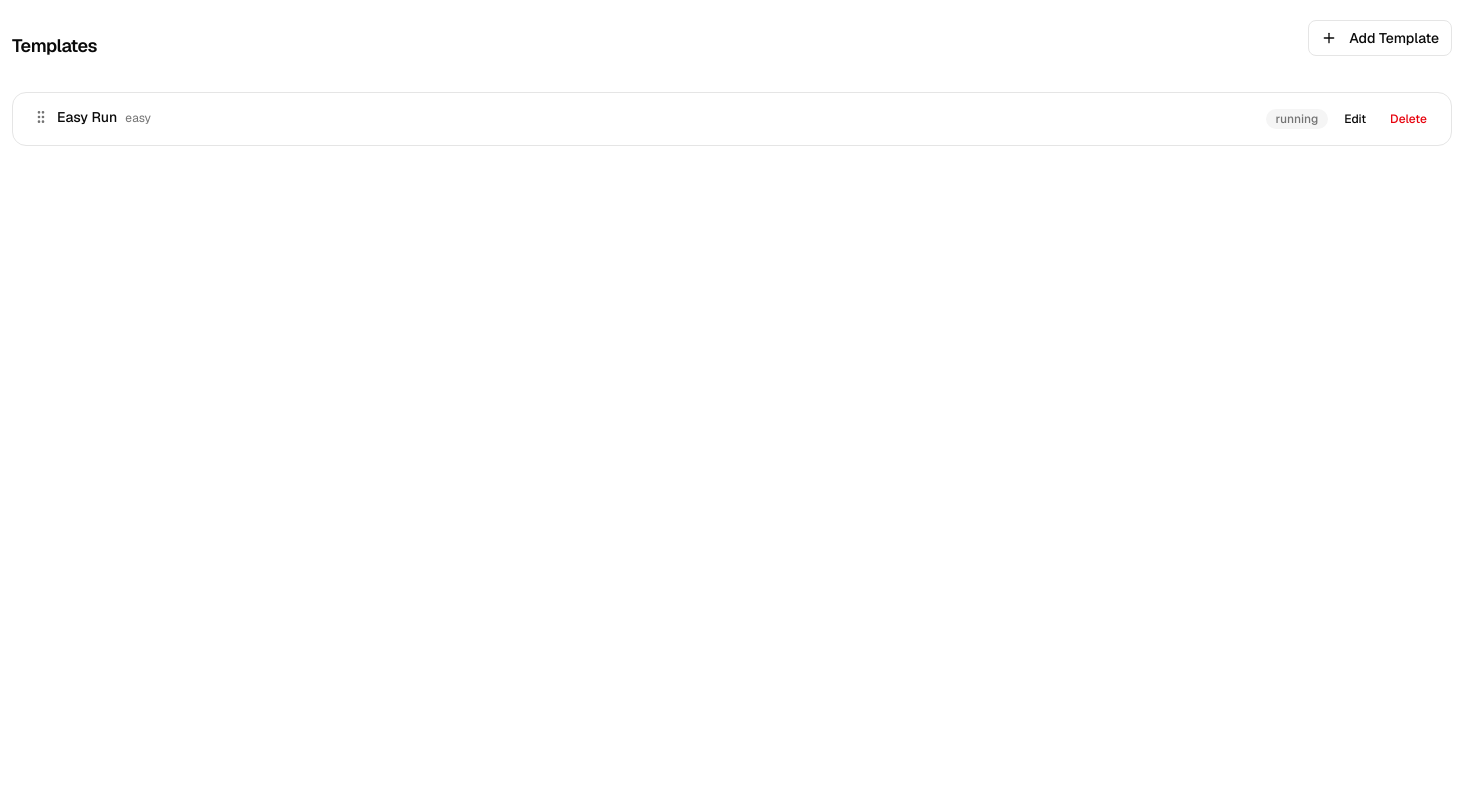
Test: TemplateSection — distance/duration inline edit (T129) › sanitizes negative sign from distance in inline edit (NumericInput prevents negative values)
Click the button "Edit": (1355, 119) [1336,105,1374,133]
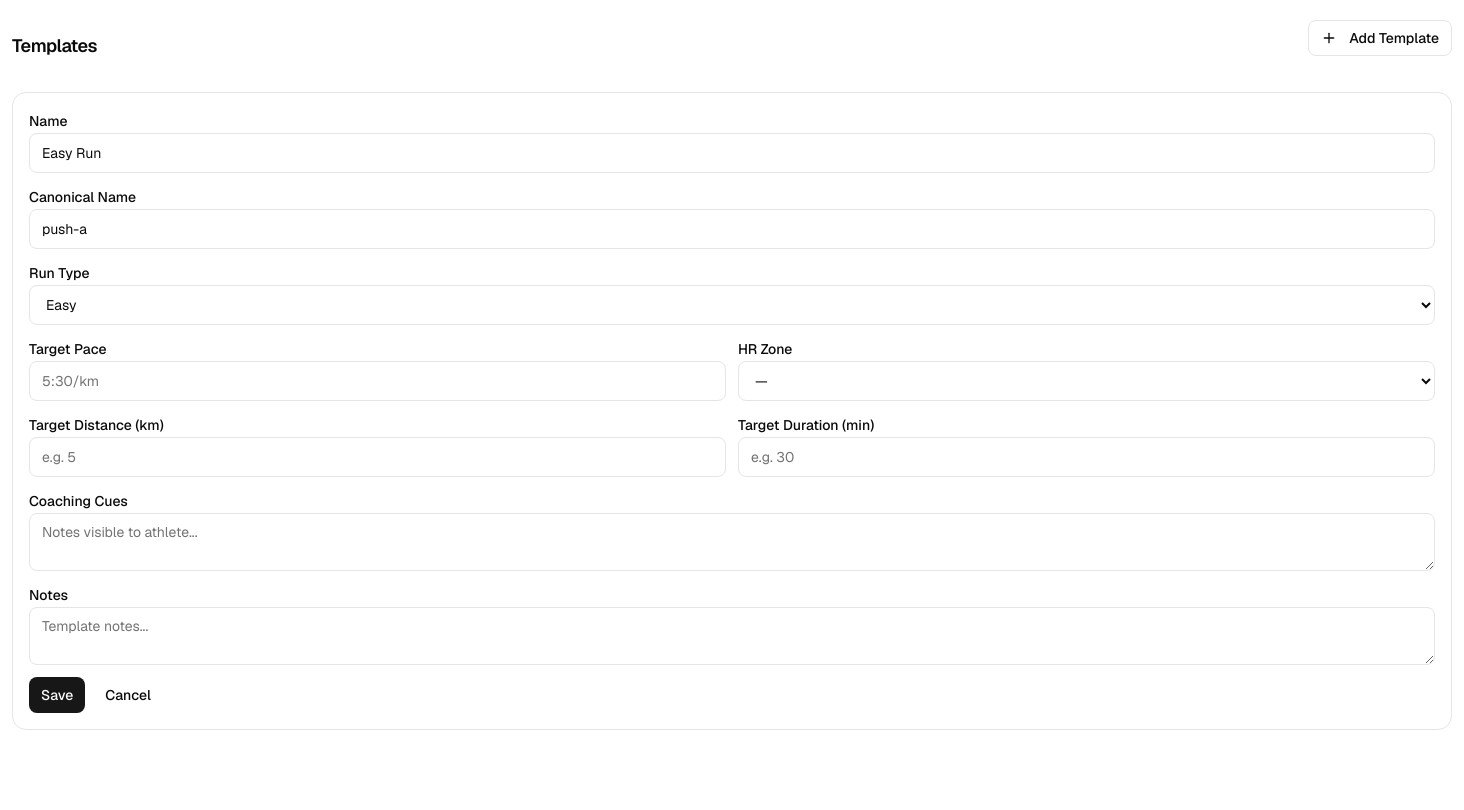
In the field labelled "Target Distance (km)": (378, 457) [29,437,726,477], type "-5"
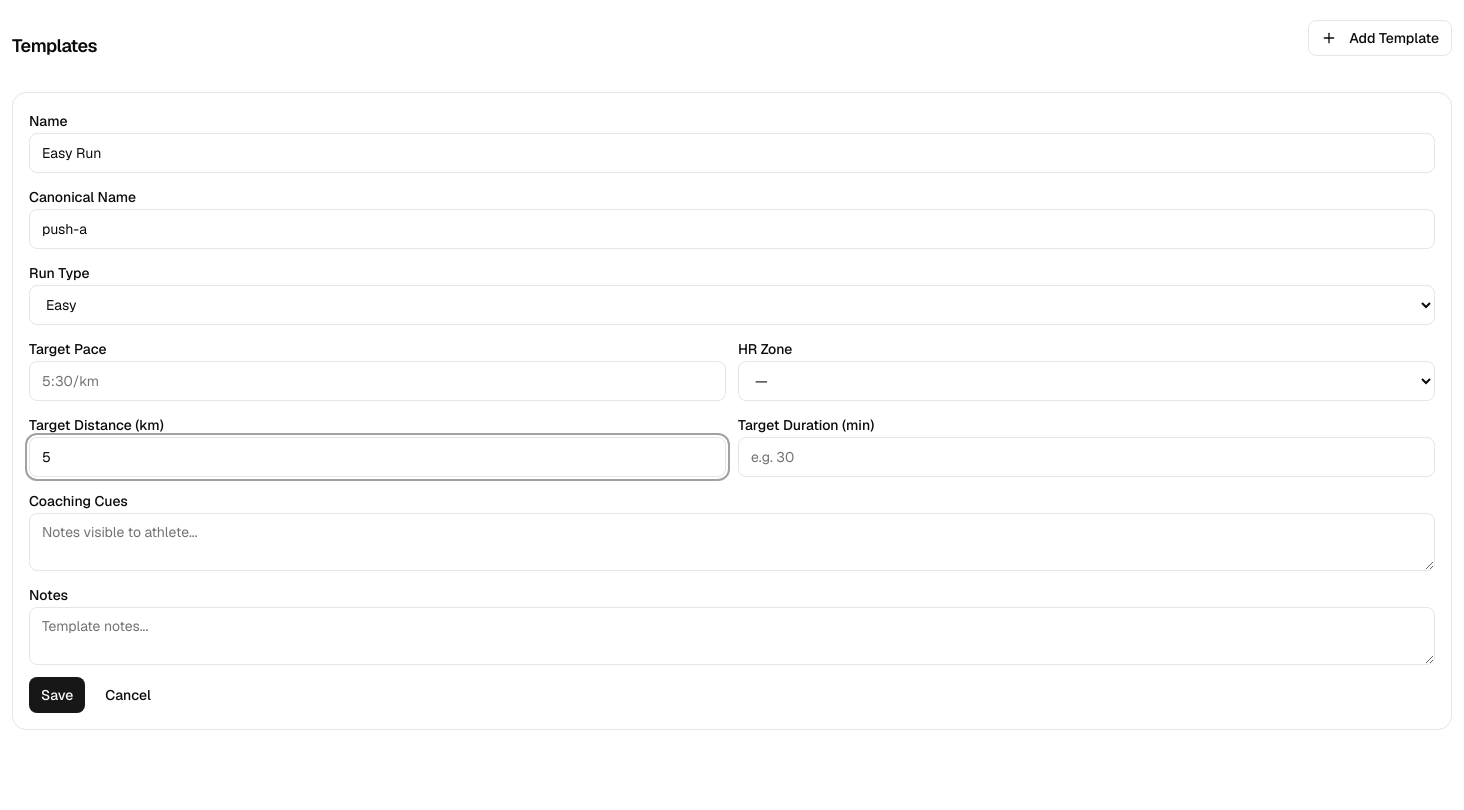
expect the field labelled "Target Distance (km)" holds "5": met, box [29,437,726,477]
